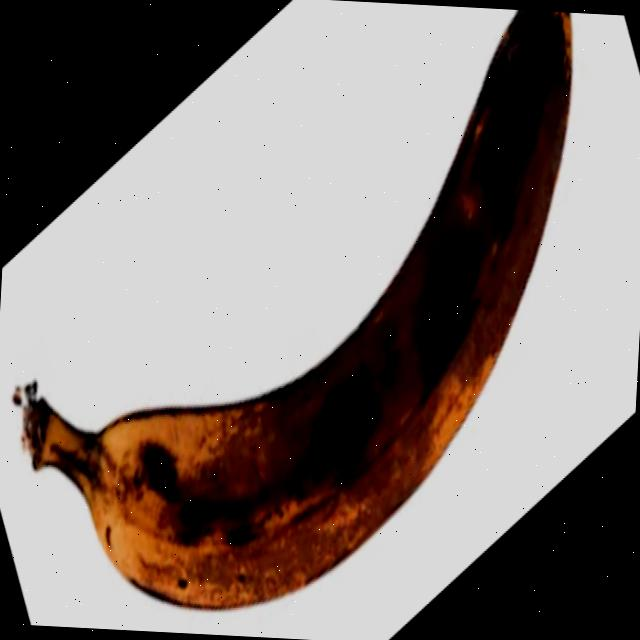Rotten: (0, 0, 605, 639)
